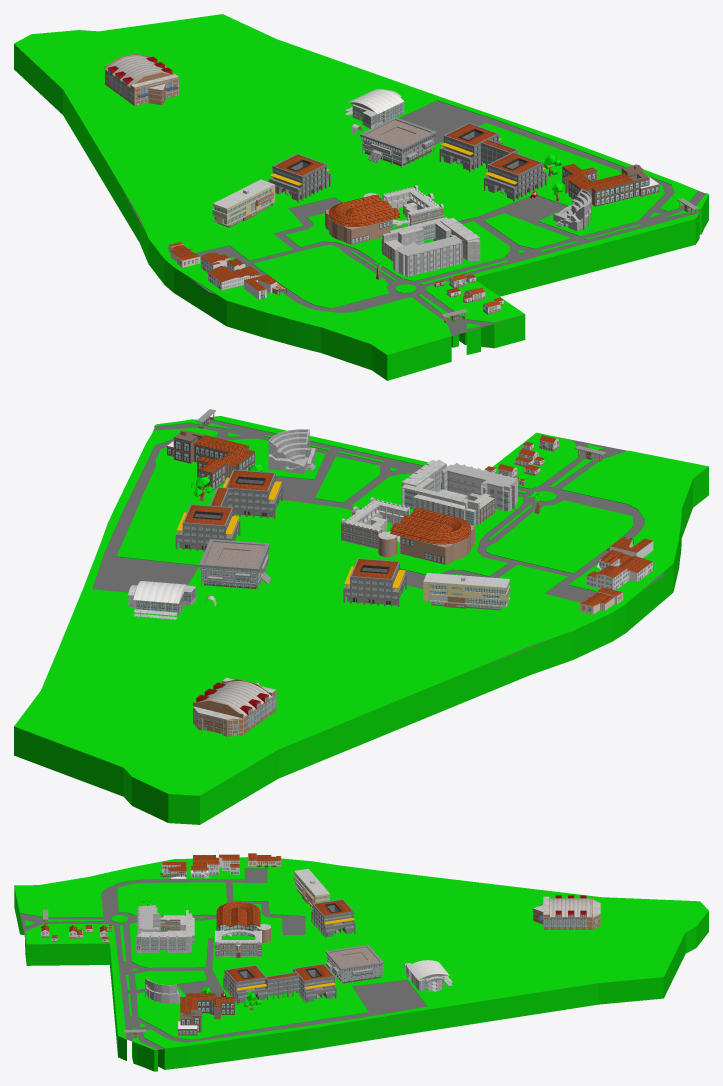
Rendered from escenario_3D.fbx.
The picture shows the model from 3 angles, top to bottom: view 1: azimuth 30°, elevation 25°; view 2: azimuth 150°, elevation 25°; view 3: azimuth 270°, elevation 25°; orthographic projection. The views are drawn at different scales.
Parts seen in each view (by area): view 1: zonas_verdes2, carretera, bloque_21_14, polideportivo, biblioteca_central, bloque_11, polySurface99, bloque_19a, bloque_46, pCube15, bloque_43, bloque_25 (+4 smaller); view 2: zonas_verdes2, carretera, bloque_21_14, polideportivo, biblioteca_central, polySurface99, bloque_11, bloque_43, pCube15, bloque_46, bloque_41, bloque_19a (+4 smaller); view 3: zonas_verdes2, carretera, bloque_21_14, polideportivo, polySurface99, bloque_11, pCube15, bloque_46, biblioteca_central, bloque_41, bloque_25, bloque_51 (+5 smaller).
Part boxes in pixels (box(x1,y1,x2,y2)): zonas_verdes2: box(14, 14, 708, 380); carretera: box(14, 44, 705, 355); bloque_21_14: box(439, 123, 546, 201); polideportivo: box(104, 53, 178, 106); biblioteca_central: box(325, 194, 403, 244); bloque_11: box(562, 164, 659, 206); polySurface99: box(360, 117, 436, 167); bloque_19a: box(393, 234, 462, 277); bloque_46: box(268, 154, 330, 202); pCube15: box(381, 217, 480, 261); bloque_43: box(212, 179, 275, 227); bloque_25: box(344, 89, 404, 134); zonas_verdes2: box(14, 416, 708, 824); carretera: box(41, 419, 700, 795); bloque_21_14: box(175, 469, 282, 551); polideportivo: box(193, 677, 276, 736); biblioteca_central: box(390, 508, 474, 564); polySurface99: box(199, 539, 271, 589); bloque_11: box(167, 430, 254, 490); bloque_43: box(423, 573, 510, 610); pCube15: box(401, 459, 479, 525); bloque_46: box(343, 558, 406, 606); bloque_41: box(341, 497, 409, 557); bloque_19a: box(441, 463, 517, 511); zonas_verdes2: box(14, 857, 708, 1071); carretera: box(14, 858, 638, 1049); bloque_21_14: box(223, 963, 336, 1004); polideportivo: box(533, 895, 600, 929); polySurface99: box(325, 945, 383, 984); bloque_11: box(178, 993, 234, 1035); pCube15: box(136, 910, 194, 952); bloque_46: box(311, 899, 355, 938); biblioteca_central: box(216, 902, 260, 937); bloque_41: box(215, 924, 270, 958); bloque_25: box(403, 960, 452, 991); bloque_51: box(190, 854, 239, 878).
Size of what is drawn, in the model's own units: 160734 by 16408 by 244429.
